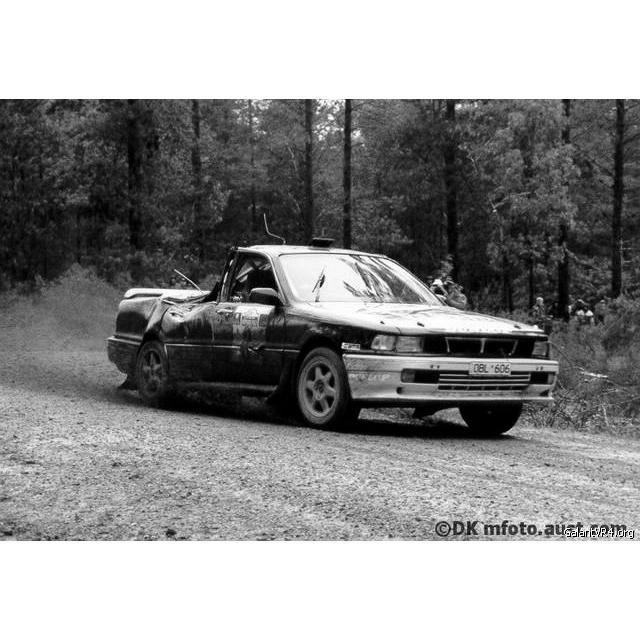bonnet-dent: (310, 297, 528, 339)
doorouter-dent: (227, 255, 291, 385), (162, 305, 223, 382)
